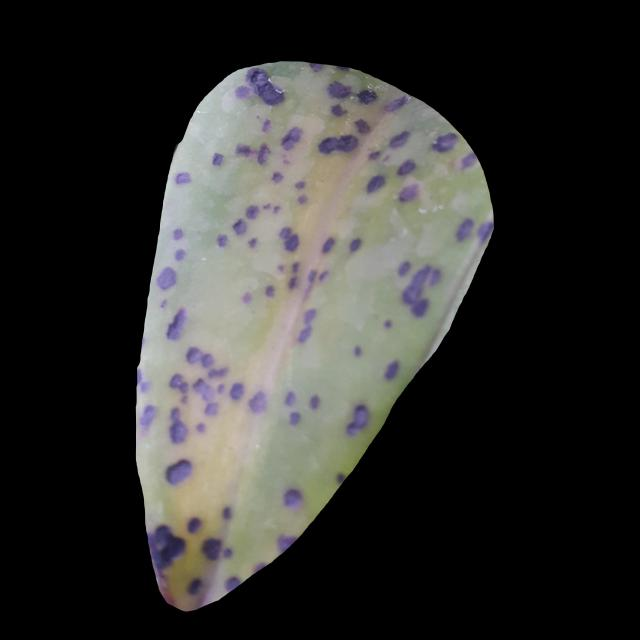mite: (149, 523, 186, 569), (317, 132, 358, 156), (344, 402, 371, 437), (164, 457, 193, 486), (430, 130, 458, 154), (277, 224, 301, 252), (200, 535, 223, 561), (365, 173, 386, 194), (185, 575, 204, 597), (356, 87, 378, 105), (186, 515, 202, 534)
spots: (133, 60, 496, 610)
